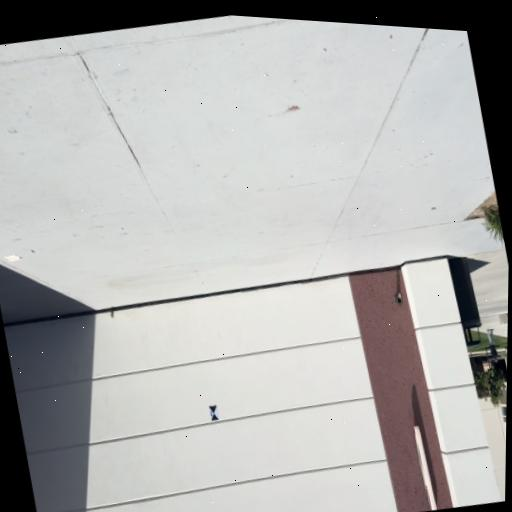target7: (208, 404, 220, 421)
